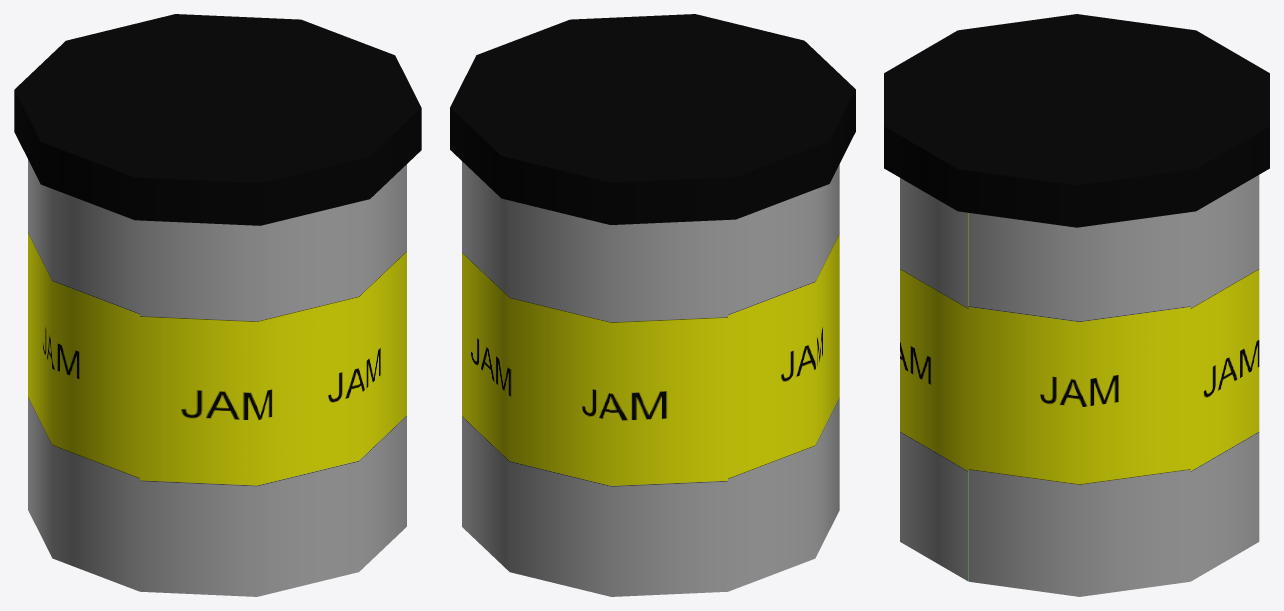
Rendered from jam.FBX.
3 views of the same model, side by side, from view 1: azimuth 30°, elevation 25°; view 2: azimuth 150°, elevation 25°; view 3: azimuth 270°, elevation 25° (orthographic).
Parts seen in each view (by area): view 1: Cylinder001, Cylinder002; view 2: Cylinder001, Cylinder002; view 3: Cylinder001, Cylinder002.
Boxes of the visible parts, bbox=[...] form: Cylinder001: bbox=[28, 159, 406, 596]; Cylinder002: bbox=[14, 14, 421, 225]; Cylinder001: bbox=[462, 161, 839, 596]; Cylinder002: bbox=[450, 14, 855, 224]; Cylinder001: bbox=[900, 175, 1259, 596]; Cylinder002: bbox=[884, 14, 1269, 227].
Bounding box in the file's own units: 28.9 × 32.79 × 27.49.
2 materials, 1 textured.
